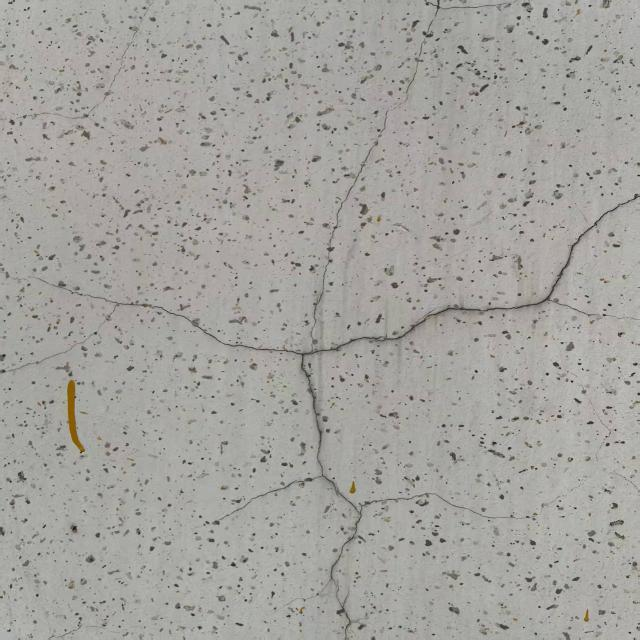crack: (4, 0, 635, 632)
